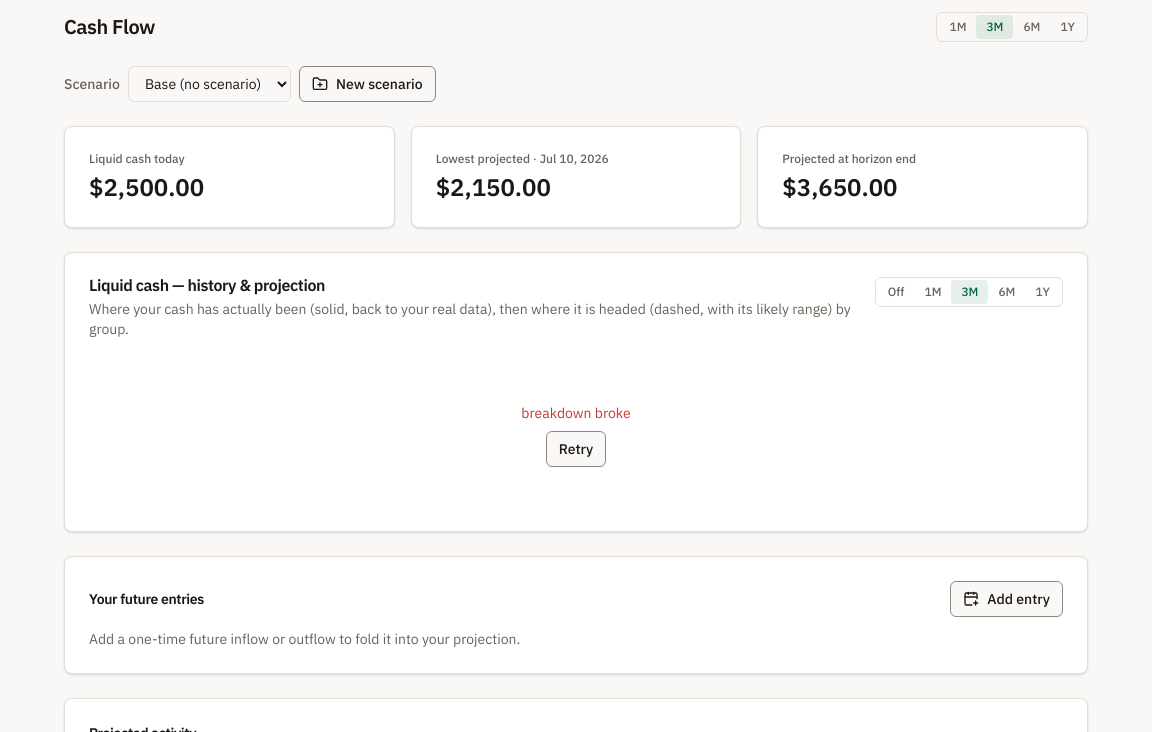
Scenario: failed reads can be asked for again, and say so (5ie.18) › shows a failed breakdown as an error with Retry, never endless Loading
Check: the text "breakdown broke" is shown, box [521,403,631,423]
What coordinates should you click on to do the following:
click the button "Retry"
I would click on:
 (576, 449)
Its box is [546,431,606,467].
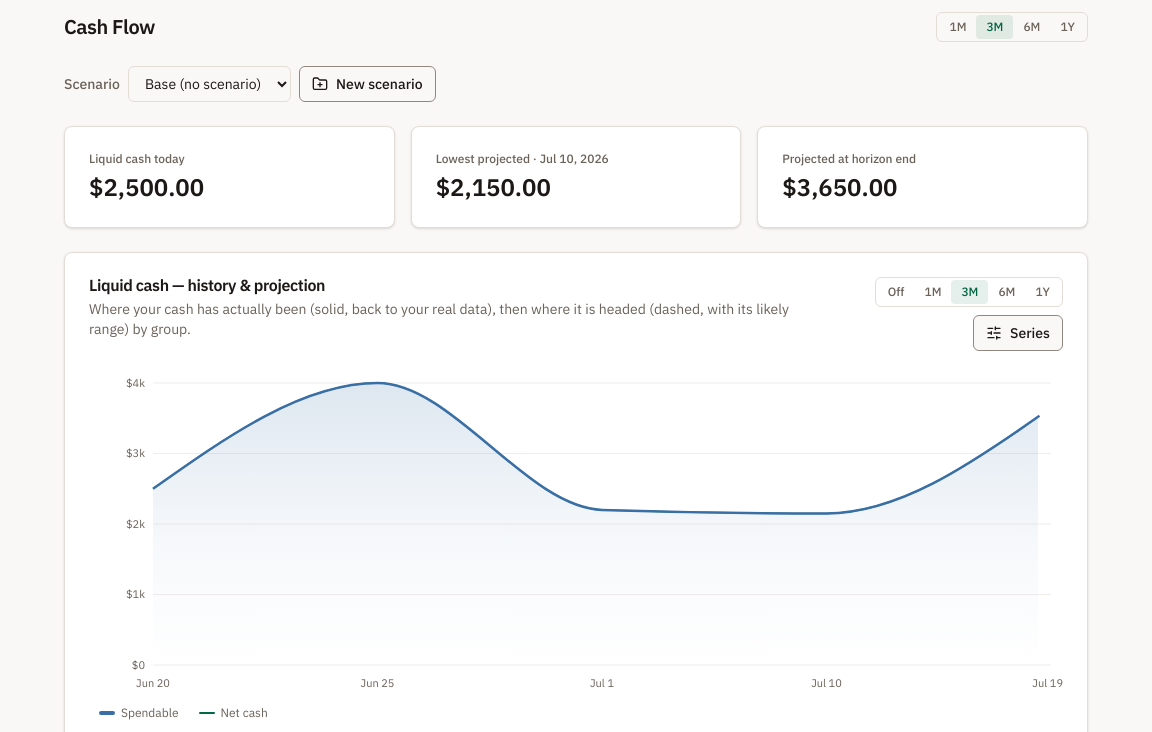
Check: the element named "projected liquid cash" is shown, box [89,375,1063,723]
Check: the text "breakdown broke" is gone
